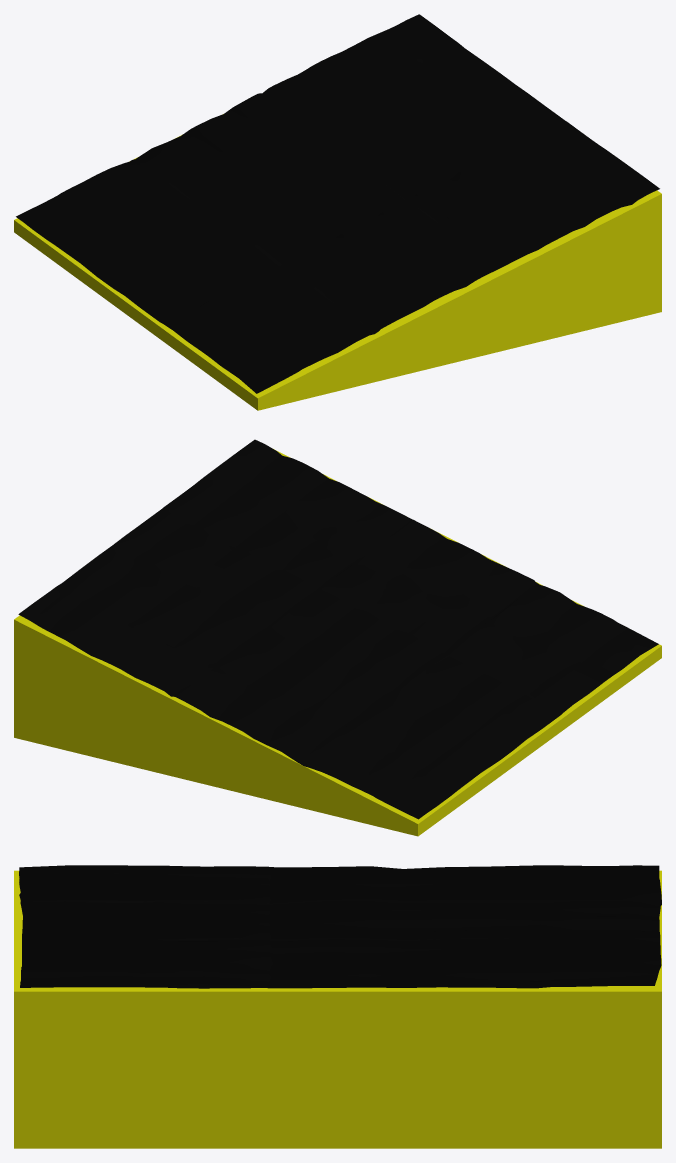
File: P_Floor_3_Alternative_low.fbx
3 renders of one model, top to bottom at view 1: azimuth 30°, elevation 25°; view 2: azimuth 150°, elevation 25°; view 3: azimuth 270°, elevation 25°, orthographic. The views are drawn at different scales.
Parts seen in each view (by area): view 1: P_Floor_3_Alternative_low; view 2: P_Floor_3_Alternative_low; view 3: P_Floor_3_Alternative_low.
Boxes of the visible parts, box(x1,y1,x2,y2) form: P_Floor_3_Alternative_low: box(14, 14, 661, 410); P_Floor_3_Alternative_low: box(14, 439, 661, 836); P_Floor_3_Alternative_low: box(14, 865, 661, 1148).
Bounding box in the file's own units: 671 × 193 × 700.
